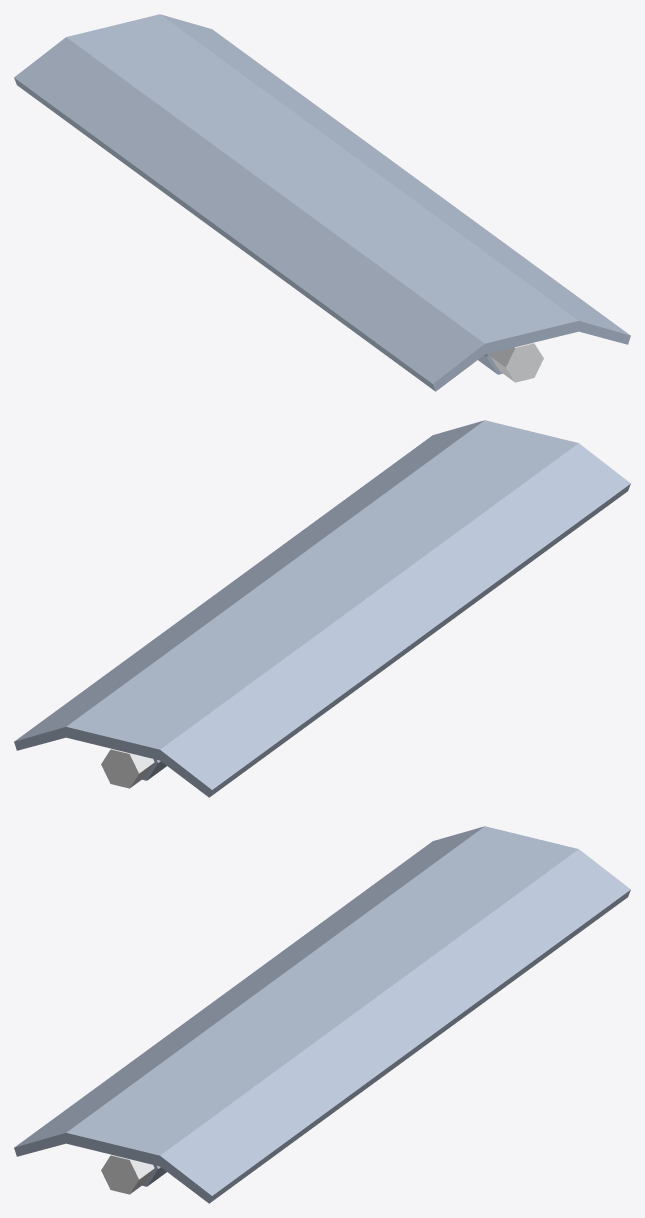
Rendered from Lamp.fbx.
The picture shows the model from 3 angles, top to bottom: view 1: azimuth 30°, elevation 25°; view 2: azimuth 150°, elevation 25°; view 3: azimuth 330°, elevation 25°; orthographic projection.
Parts seen in each view (by area): view 1: lamp; view 2: lamp; view 3: lamp.
Boxes of the visible parts, x1=… form: lamp: x1=14, y1=14, x2=630, y2=391; lamp: x1=14, y1=420, x2=630, y2=797; lamp: x1=14, y1=826, x2=630, y2=1203.
Bounding box in the file's own units: 27.38 × 7.45 × 100.
